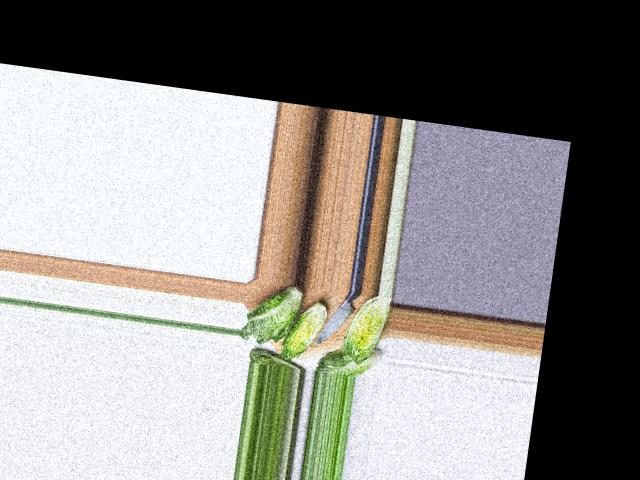lettuce: (317, 342, 382, 377)
